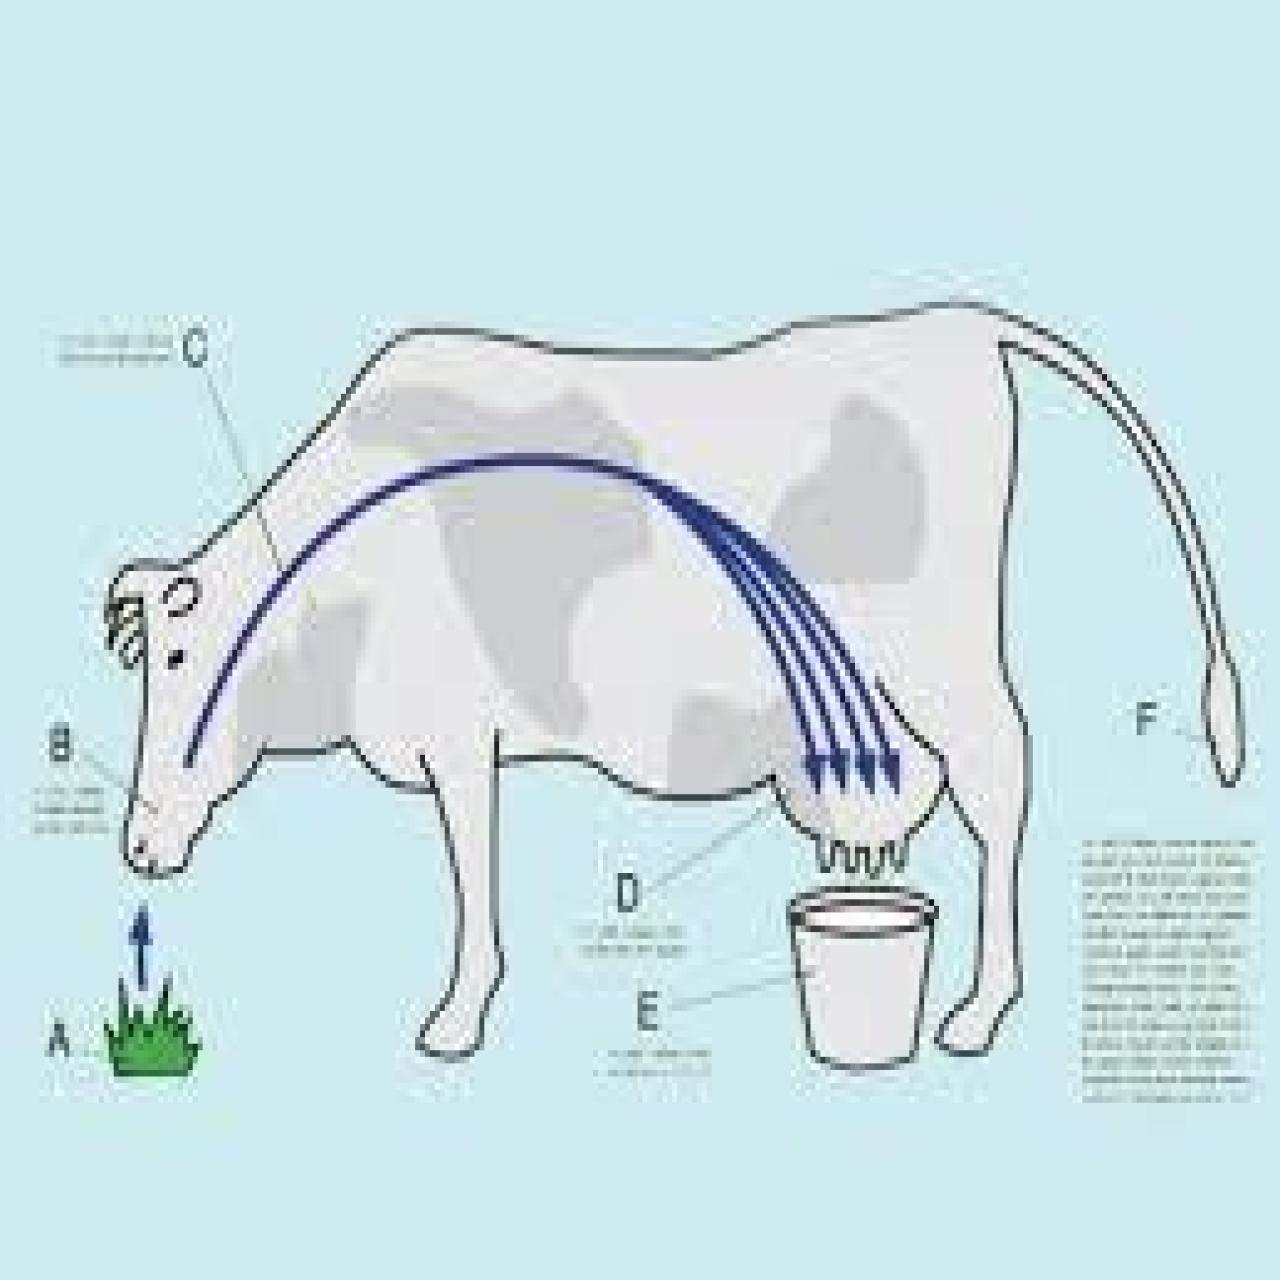cow: (101, 295, 1253, 1063)
